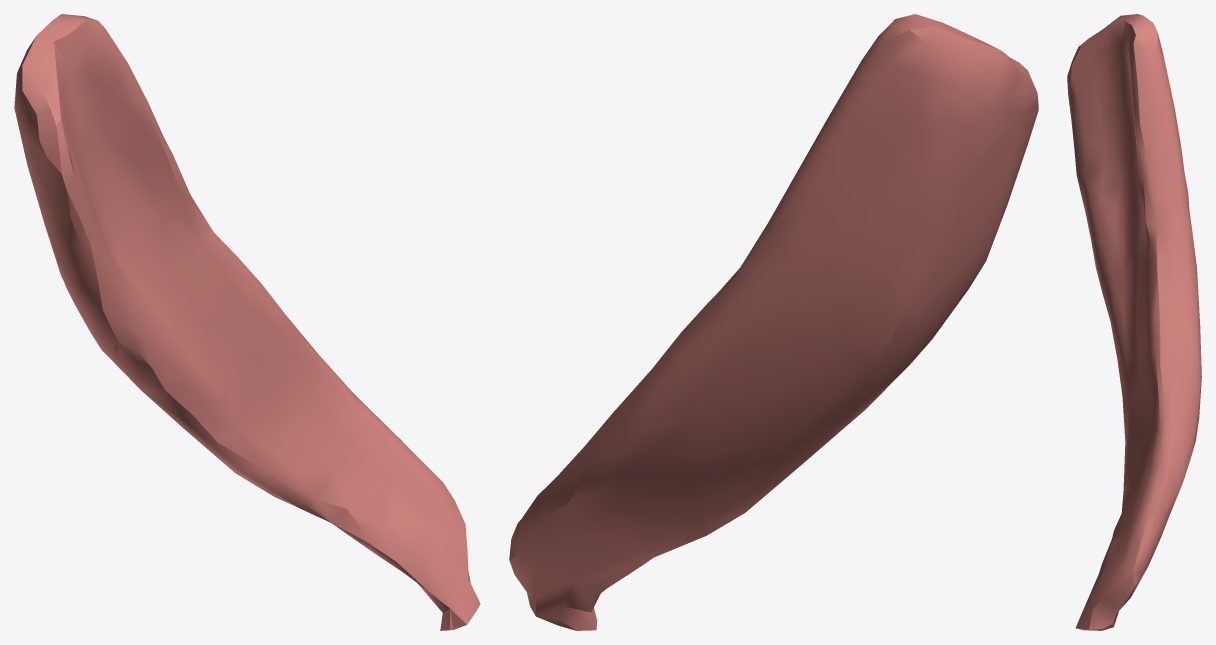
File: fma81551_mm1332m.glb
3 views of the same model, side by side, from view 1: azimuth 30°, elevation 25°; view 2: azimuth 150°, elevation 25°; view 3: azimuth 270°, elevation 25° (orthographic). The views are drawn at different scales.
Parts seen in each view (by area): view 1: FMA81551_MM1332M; view 2: FMA81551_MM1332M; view 3: FMA81551_MM1332M.
Boxes of the visible parts, left/top/right/bottom form: FMA81551_MM1332M: left=14, top=14, right=480, bottom=630; FMA81551_MM1332M: left=509, top=14, right=1038, bottom=630; FMA81551_MM1332M: left=1067, top=14, right=1201, bottom=630.
Bounding box in the file's own units: 0.0159 × 0.0225 × 0.00564.
